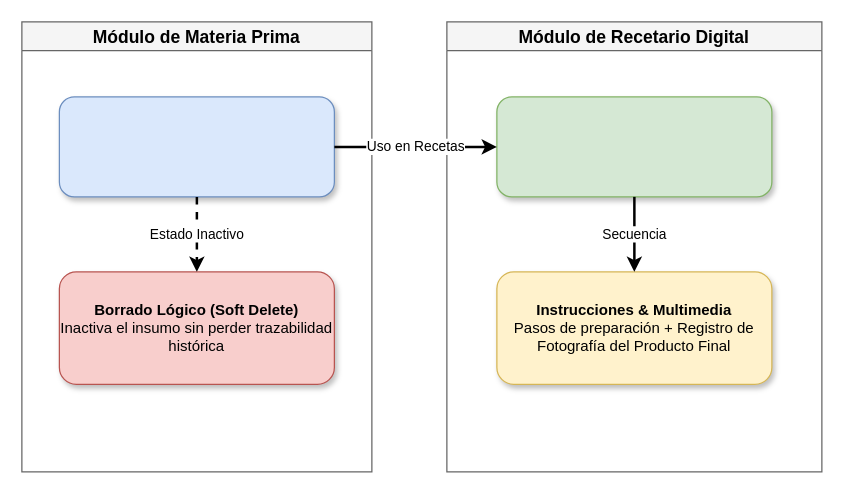
Image size: 844x494. Some labels were removed from this diagram. The centre of each missing label's shape, as x and y in pixels:
Asociación de Ingredientes Vincula insumos activos a la receta: pixel 635 148
Gestión CRUD Insumos Nombre, Unidad de Medida, Costo Unitario: pixel 197 148
